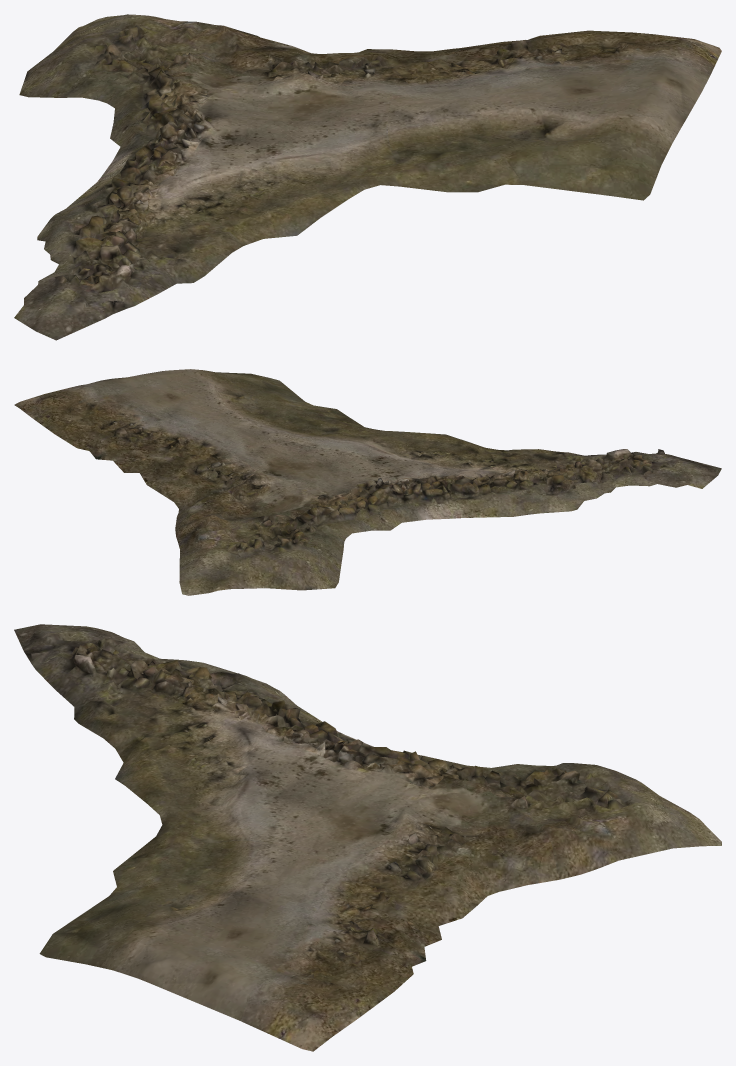
Rendered from coast_rocks_01.glb.
3 views of the same model, one above another, from view 1: azimuth 30°, elevation 25°; view 2: azimuth 150°, elevation 25°; view 3: azimuth 270°, elevation 25° (orthographic). The views are drawn at different scales.
Parts seen in each view (by area): view 1: coast_rocks_01; view 2: coast_rocks_01; view 3: coast_rocks_01.
Part boxes in pixels (box(x1,y1,x2,y2)): coast_rocks_01: box(14, 14, 721, 340); coast_rocks_01: box(14, 369, 721, 595); coast_rocks_01: box(14, 624, 721, 1051).
Size of the model in its own units: 59.34 by 3.29 by 42.48.
1 material, 1 textured.
